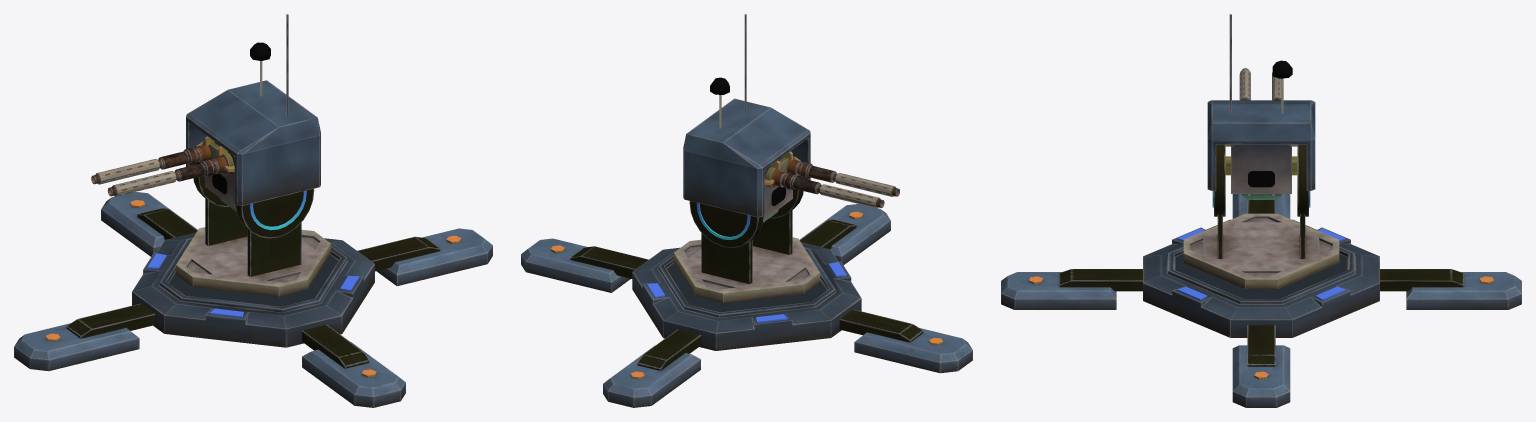
The model's file is Turret.glb.
3 views of the same model, side by side, from view 1: azimuth 30°, elevation 25°; view 2: azimuth 150°, elevation 25°; view 3: azimuth 270°, elevation 25° (orthographic). The views are drawn at different scales.
Parts seen in each view (by area): view 1: Ground weapon bottom part, ground weapon top part, ground weapon mid part; view 2: Ground weapon bottom part, ground weapon top part, ground weapon mid part; view 3: Ground weapon bottom part, ground weapon top part, ground weapon mid part.
Boxes of the visible parts, <box> form: Ground weapon bottom part: <box>14,192,492,407</box>; ground weapon top part: <box>91,14,320,238</box>; ground weapon mid part: <box>176,198,330,296</box>; Ground weapon bottom part: <box>521,204,972,407</box>; ground weapon top part: <box>683,14,899,247</box>; ground weapon mid part: <box>673,210,820,302</box>; Ground weapon bottom part: <box>1001,194,1521,407</box>; ground weapon top part: <box>1207,14,1315,216</box>; ground weapon mid part: <box>1183,213,1339,288</box>.
Bounding box in the file's own units: 4.87 × 3.01 × 4.87.
Materials: 2 (2 with a texture image).
